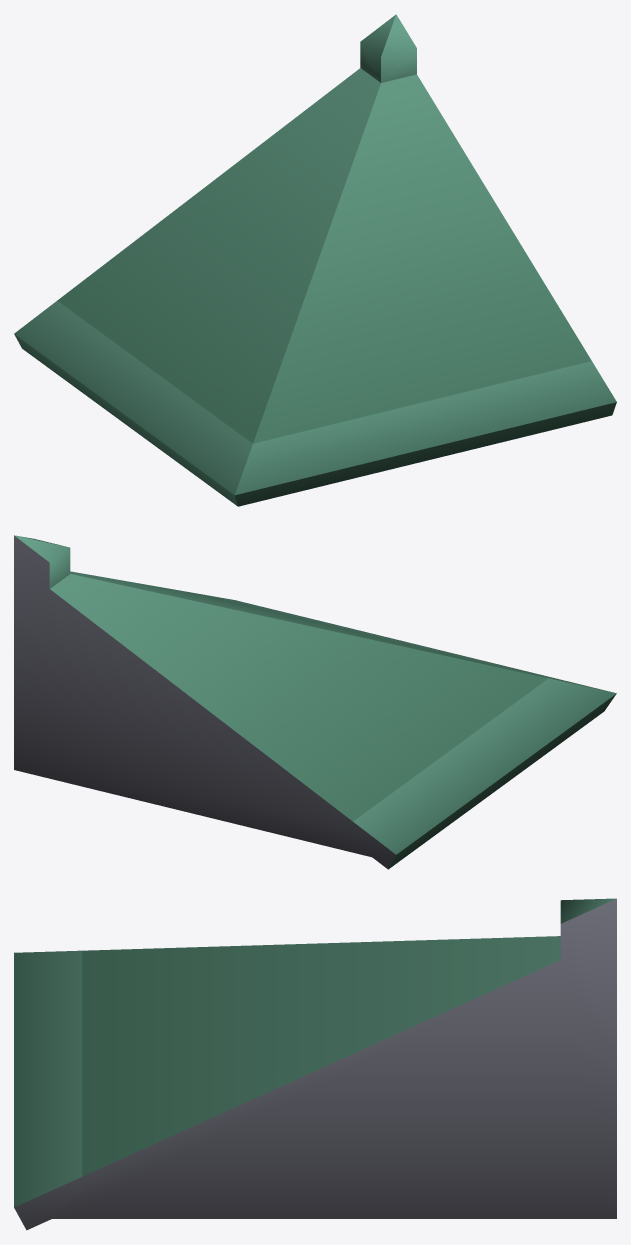
The model's file is roof-corner.glb.
3 renders of one model, top to bottom at view 1: azimuth 30°, elevation 25°; view 2: azimuth 150°, elevation 25°; view 3: azimuth 270°, elevation 25°, orthographic. The views are drawn at different scales.
Parts seen in each view (by area): view 1: roof-corner; view 2: roof-corner; view 3: roof-corner.
Part boxes in pixels (left/top/right/bottom): roof-corner: left=14, top=14, right=616, bottom=506; roof-corner: left=14, top=535, right=616, bottom=869; roof-corner: left=14, top=898, right=616, bottom=1230.
Size of the model in its own units: 3.2 by 1.94 by 3.2.
